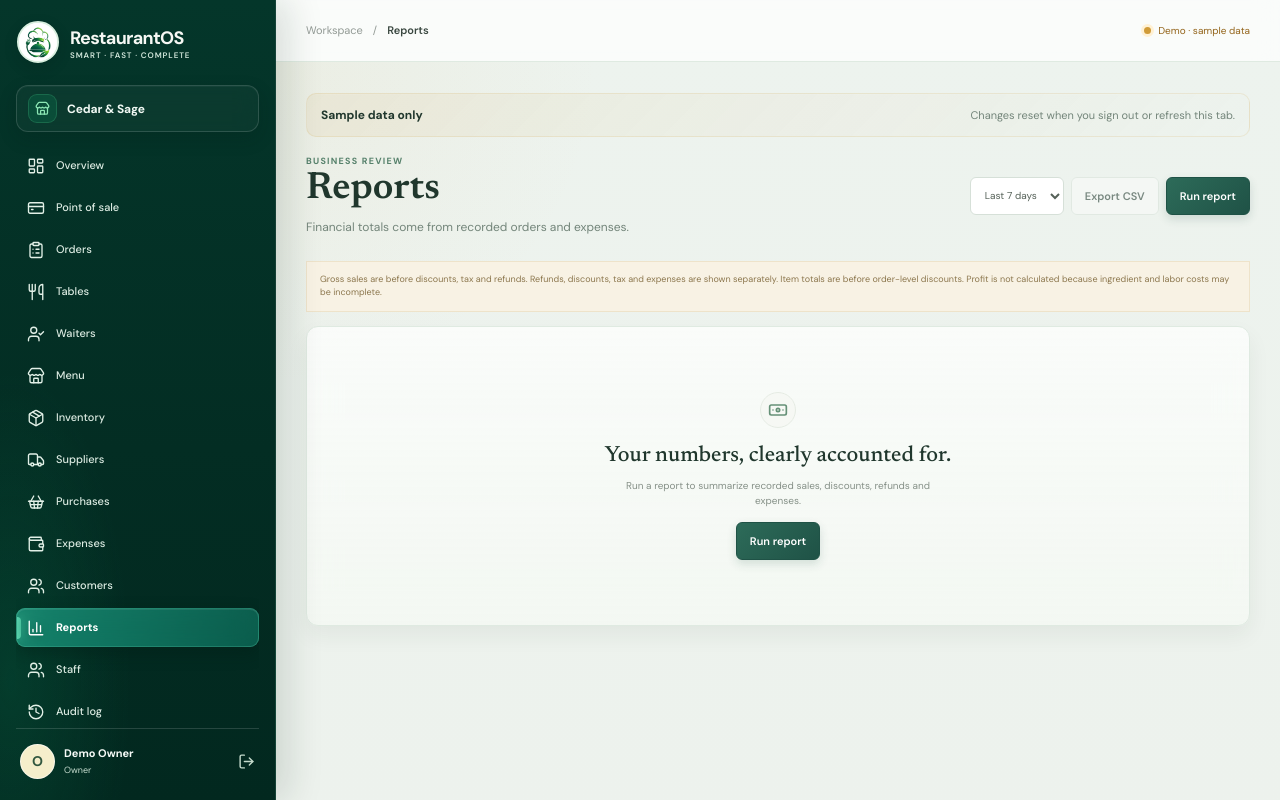
Test: authentication routes › shows a warning when an exported report is truncated
Click the 1st button "Run report" at {"x": 1208, "y": 196}, box 1166,177 -> 1250,215
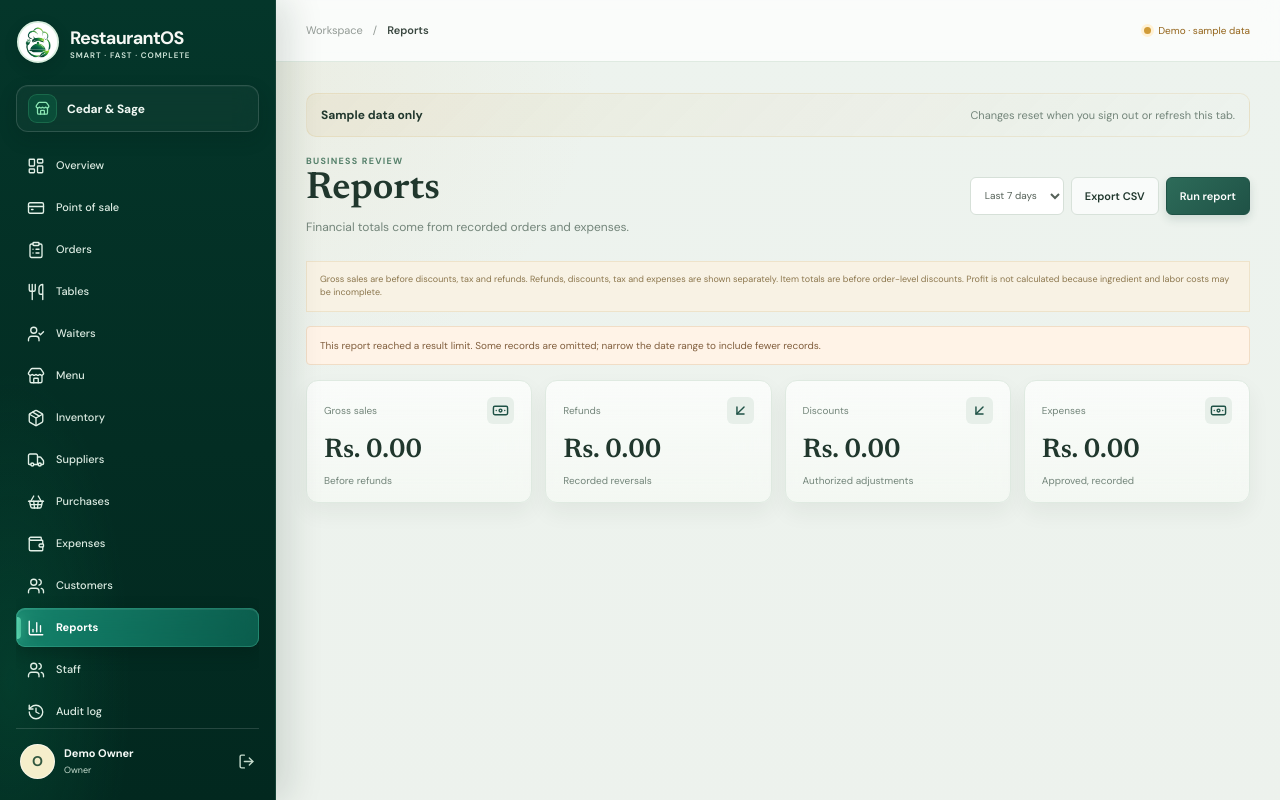
Now the message shows "report reached a result limit", box 320,339 -> 821,352
